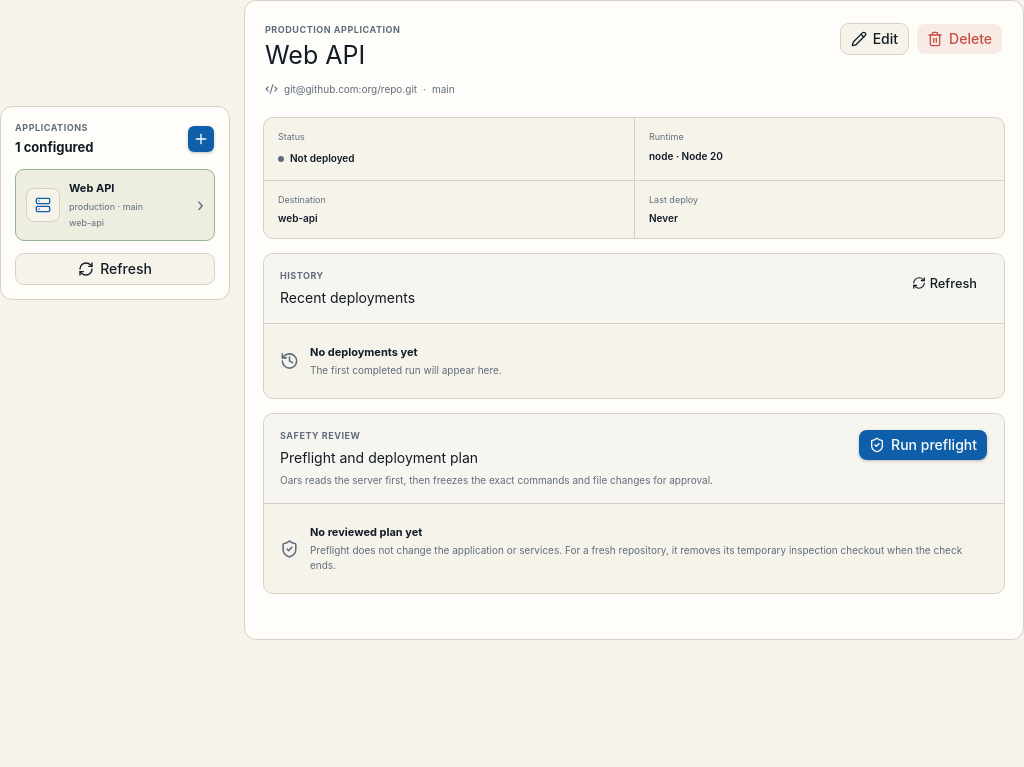
Scenario: DeployTab Integration Suite › Scenario 4: Missing secret validation error banner
Expected: the text "Web API" is shown, [69,181,114,195]
Click the button "Run preflight" at (923, 445), box [858,429,988,461]
(page scrolled)
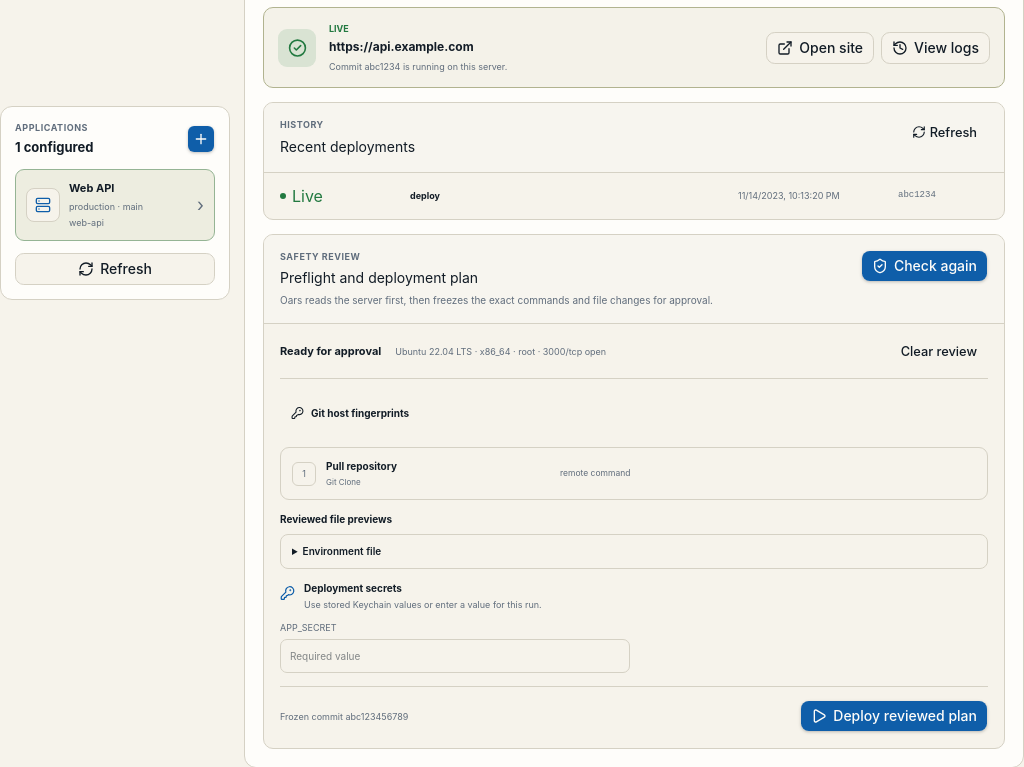
Result: the text "Ready for approval" is shown at [280,343,381,360]
The app has a secret env var APP_SECRET that is currently empty
Click the button "Deploy reviewed plan" at (894, 716), box [800,700,988,732]
(page scrolled)
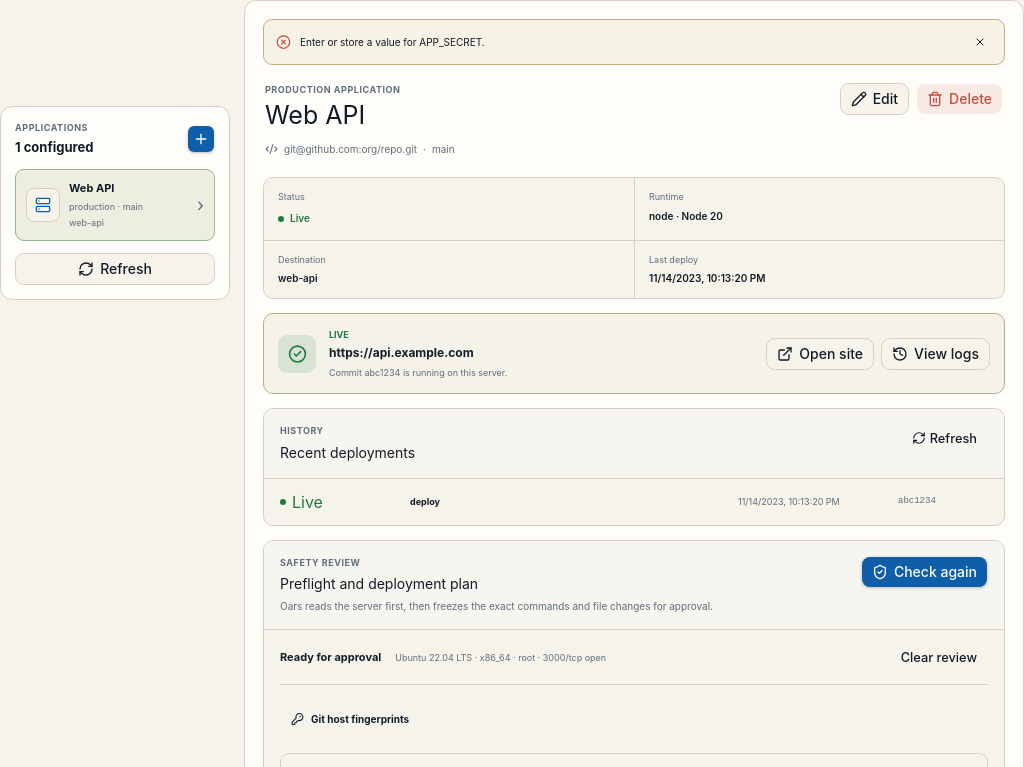
Result: the text "Enter or store a value for APP_SECRET." is shown at [300,36,485,48]
